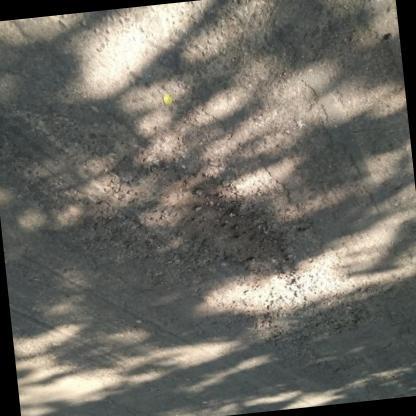pothole: (154, 164, 300, 290)
